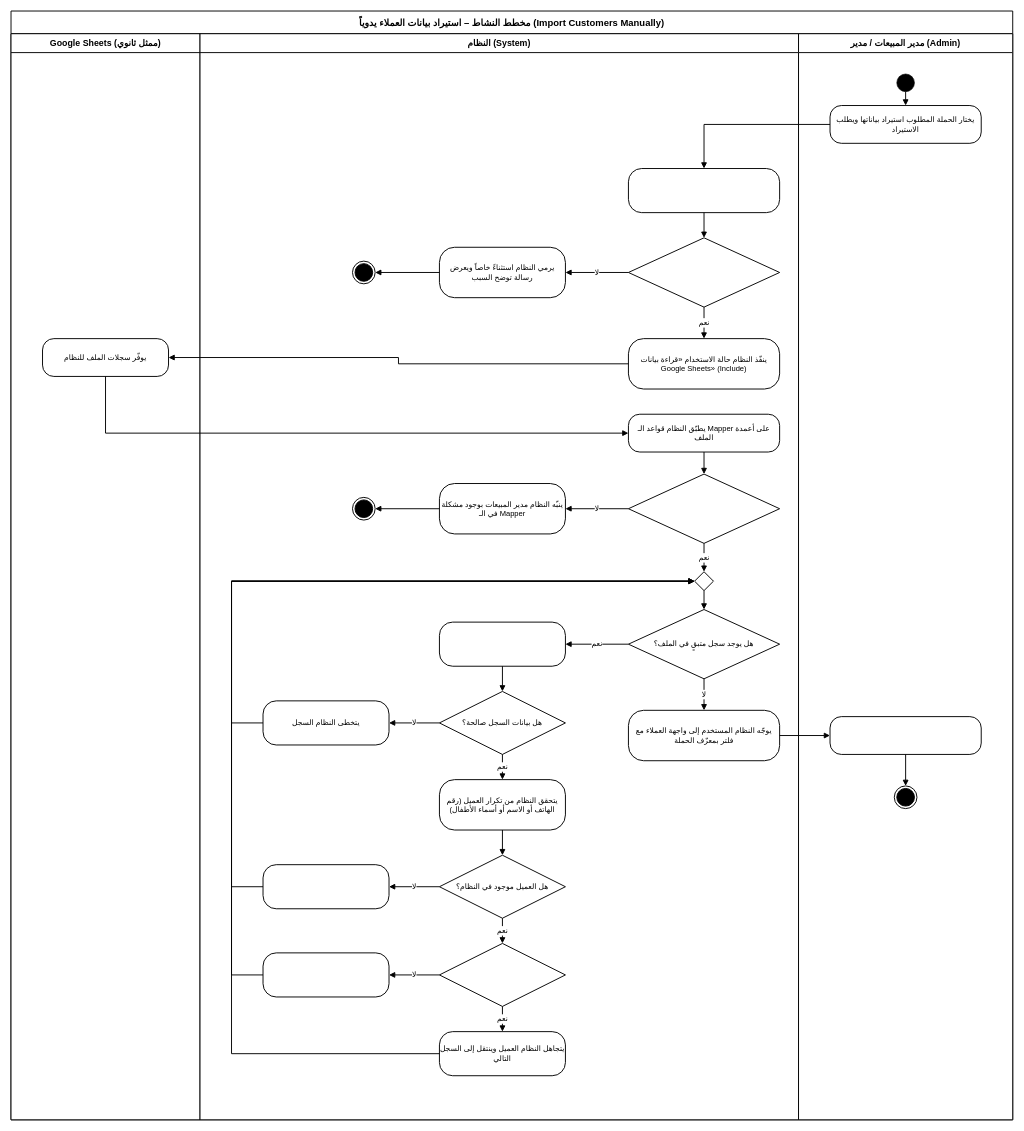
Some shapes in this 1024 by 1131 pixel diagram are drawn without their labels. Here are the shapes that lost their labels. From the top down, the centre of each, then its label:
the point at 704,190: يتحقق النظام من أن الحملة مرتبطة برابط Google Sheet وبقواعد Mapper
the point at 704,272: هل رابط الشيت وقواعد Mapper موجودان؟
the point at 704,508: هل أعمدة الملف مطابقة لقواعد الـ Mapper؟
the point at 502,643: يأخذ النظام السجل التالي ويتحقق من صلاحية بياناته
the point at 905,735: يستعرض العملاء المستوردين
the point at 325,886: يضيف النظام العميل ويربطه بالحملة بحالة «جديد»
the point at 325,974: يربط النظام العميل بالحملة بحالة «جديد»
the point at 502,975: هل العميل مرتبط بالحملة مسبقاً؟
